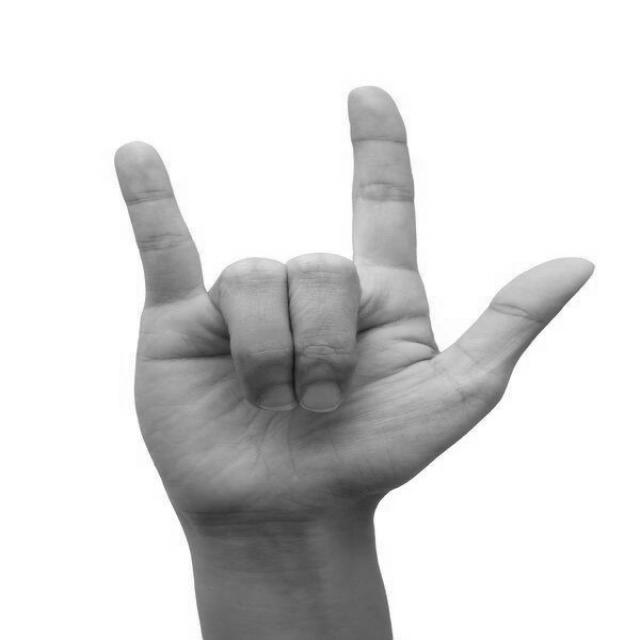i love you: (101, 76, 603, 548)
